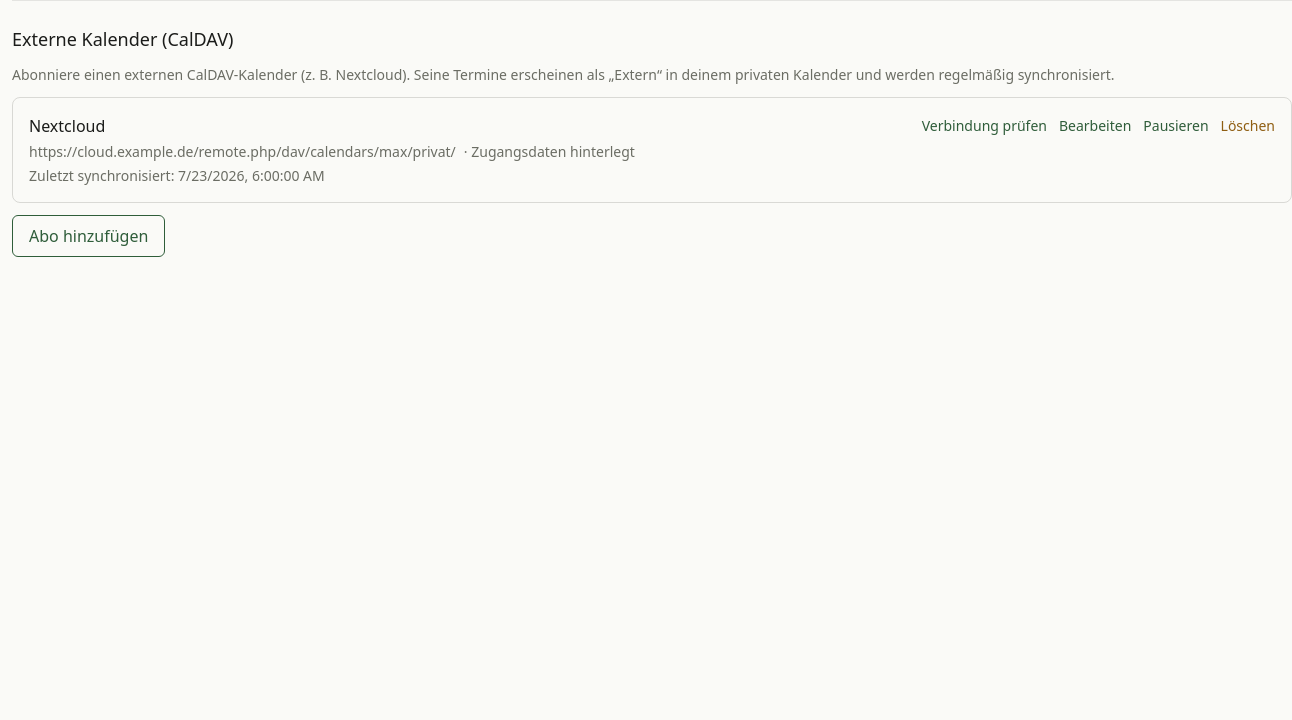
a stale edit (412) refetches the detail for a retry
Click the button "Bearbeiten": {"x": 1095, "y": 126} [1059, 116, 1131, 136]
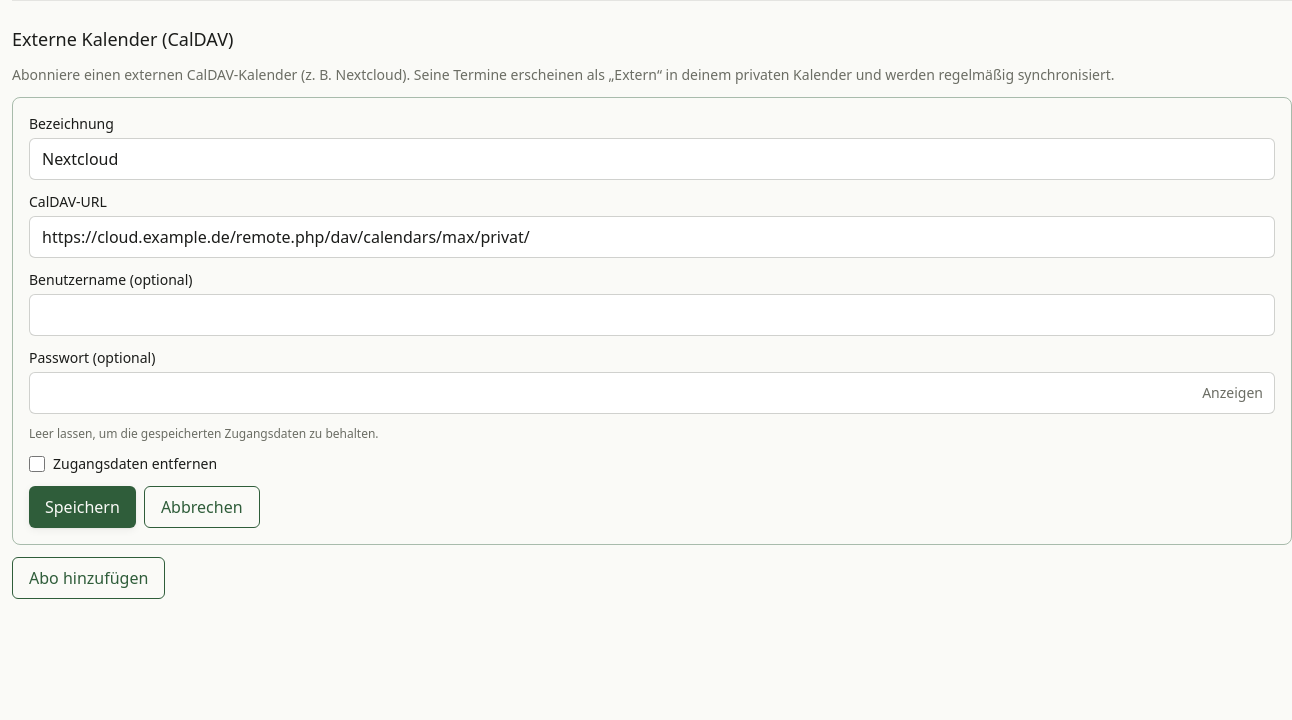
Click the button "Speichern": {"x": 82, "y": 507} [29, 486, 136, 528]
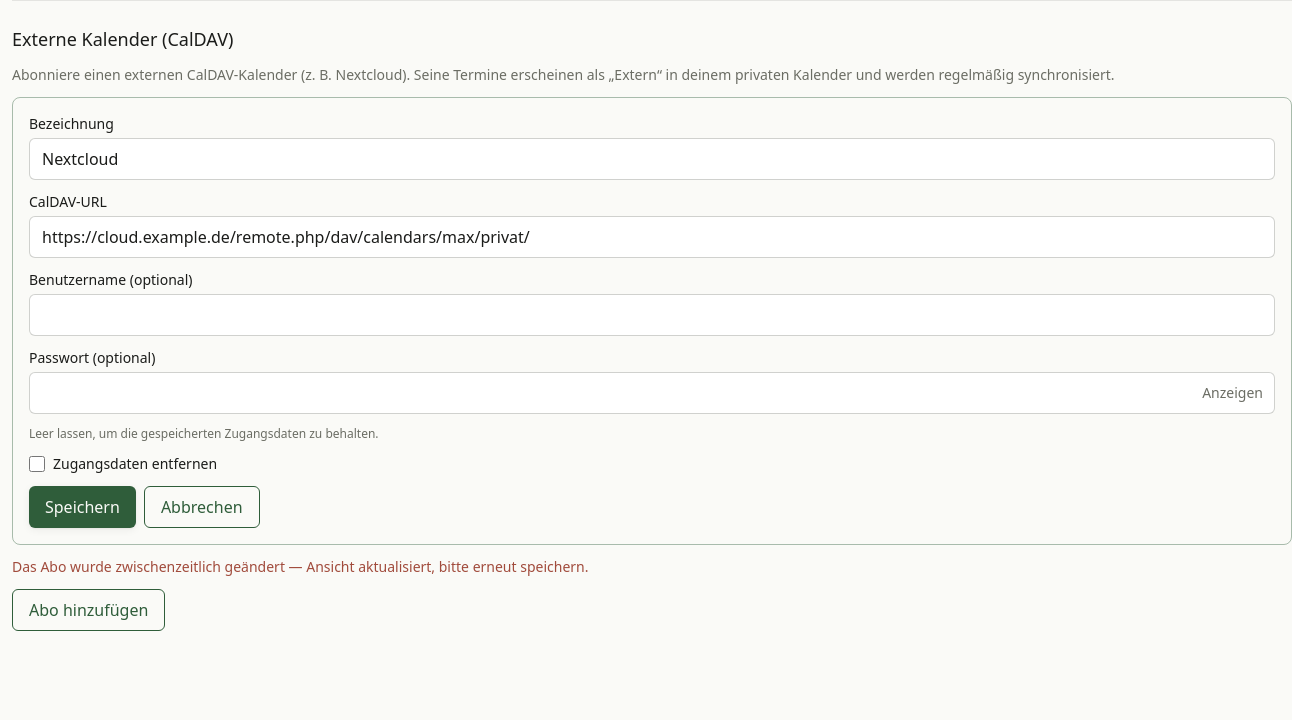
Check: the message shows "zwischenzeitlich geändert", box [12, 557, 588, 576]
